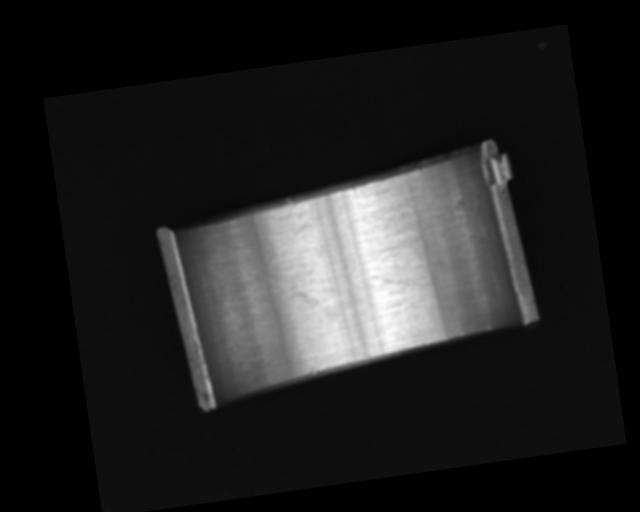blot: (267, 265, 321, 313)
bruise: (308, 367, 317, 375)
nick: (485, 318, 492, 332)
